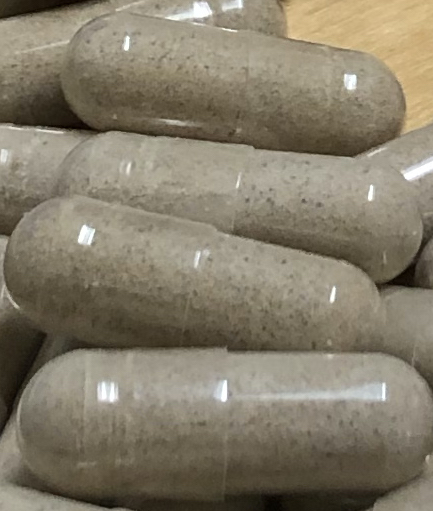capsule: (14, 347, 433, 497), (3, 196, 387, 354), (58, 129, 423, 288), (61, 12, 408, 160), (1, 7, 95, 128)
